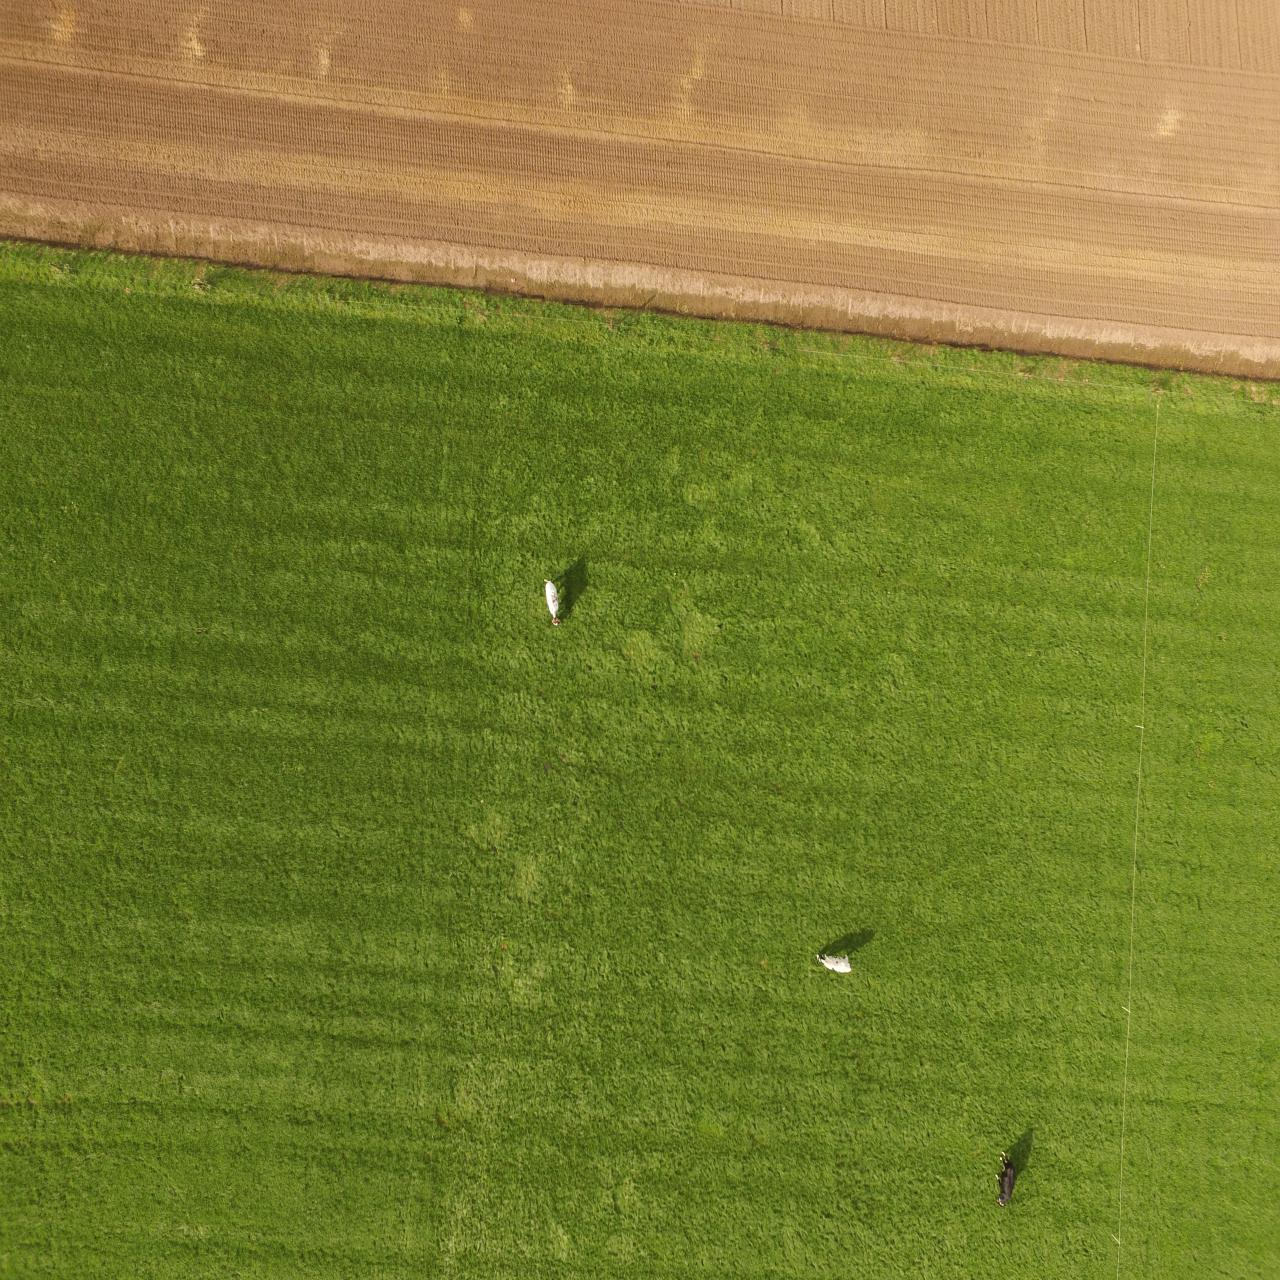cow: (994, 1149, 1016, 1210), (542, 577, 563, 627), (815, 951, 855, 975)
